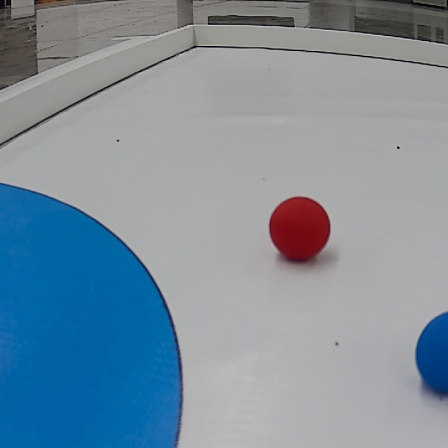blue: (414, 310, 448, 395)
blue_base: (0, 174, 187, 448)
red: (268, 197, 332, 260)
